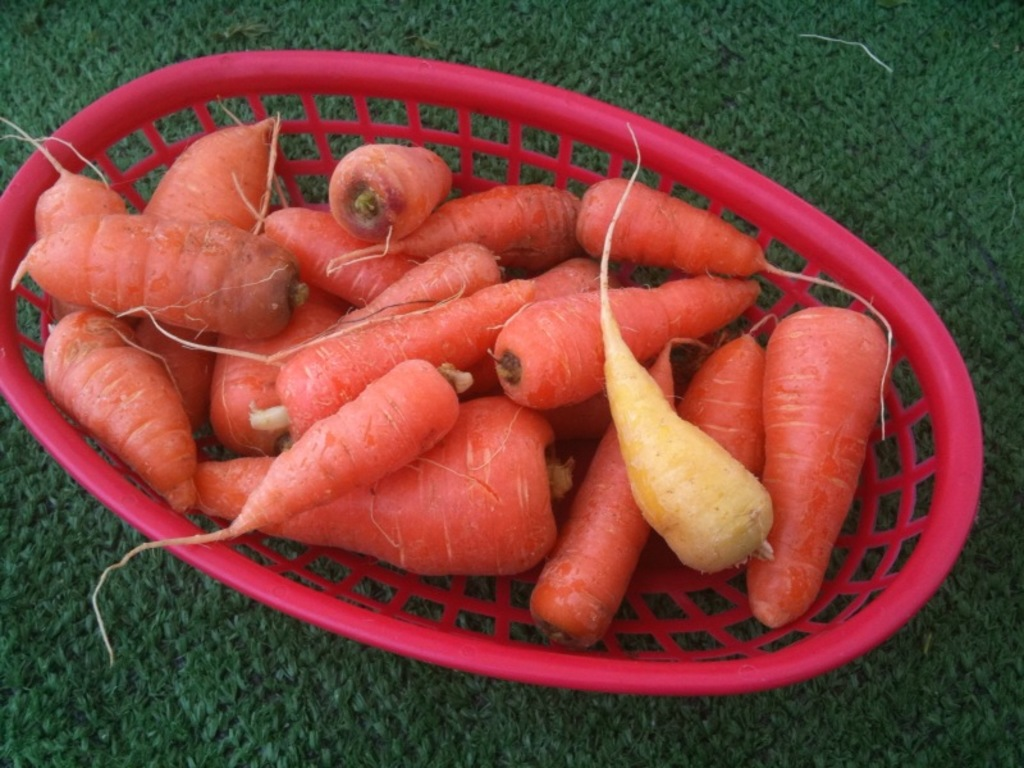Carrot: (0, 111, 892, 669)
